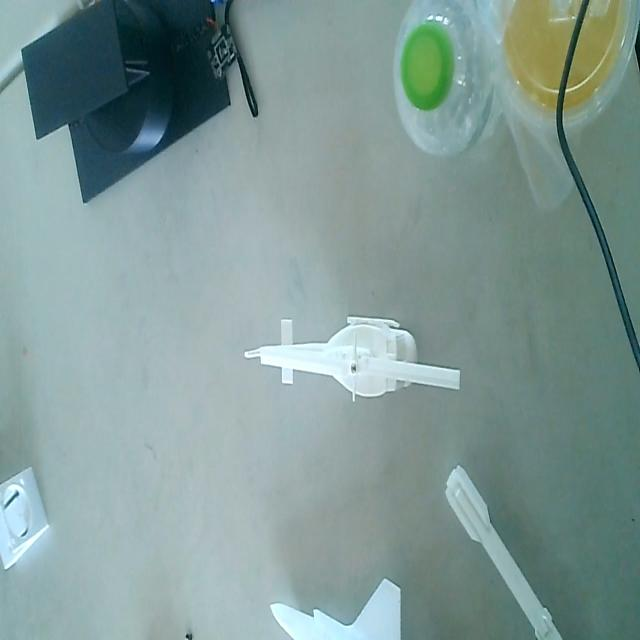Helicopter: (240, 306, 464, 419)
Jet: (261, 569, 407, 640)
Rocket: (441, 450, 566, 640)
